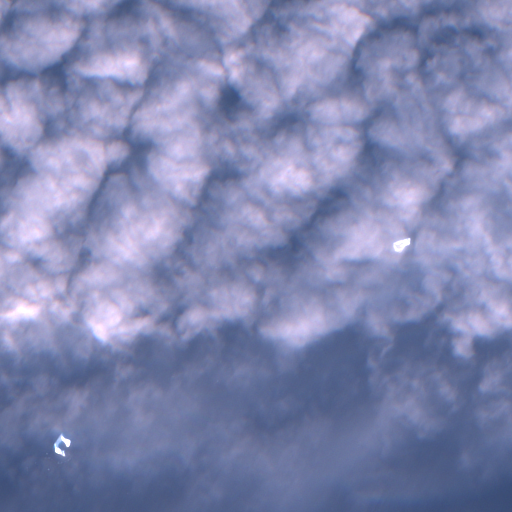Iceberg: (54, 433, 70, 456), (393, 238, 410, 251)
